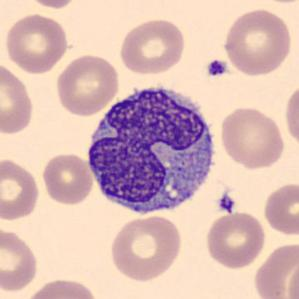Monocyte: (82, 77, 223, 223)
Platelets: (204, 58, 229, 79), (217, 193, 237, 215)
RBC: (220, 5, 294, 78), (107, 214, 184, 284), (218, 105, 286, 171), (54, 52, 121, 118), (3, 11, 70, 75), (117, 16, 188, 76), (204, 210, 268, 269), (40, 152, 95, 207), (251, 239, 299, 299), (0, 156, 42, 223), (0, 226, 41, 293), (0, 60, 36, 136), (261, 180, 298, 238), (22, 275, 101, 299), (282, 81, 299, 150), (22, 0, 83, 10), (285, 260, 299, 298), (251, 0, 299, 7)
